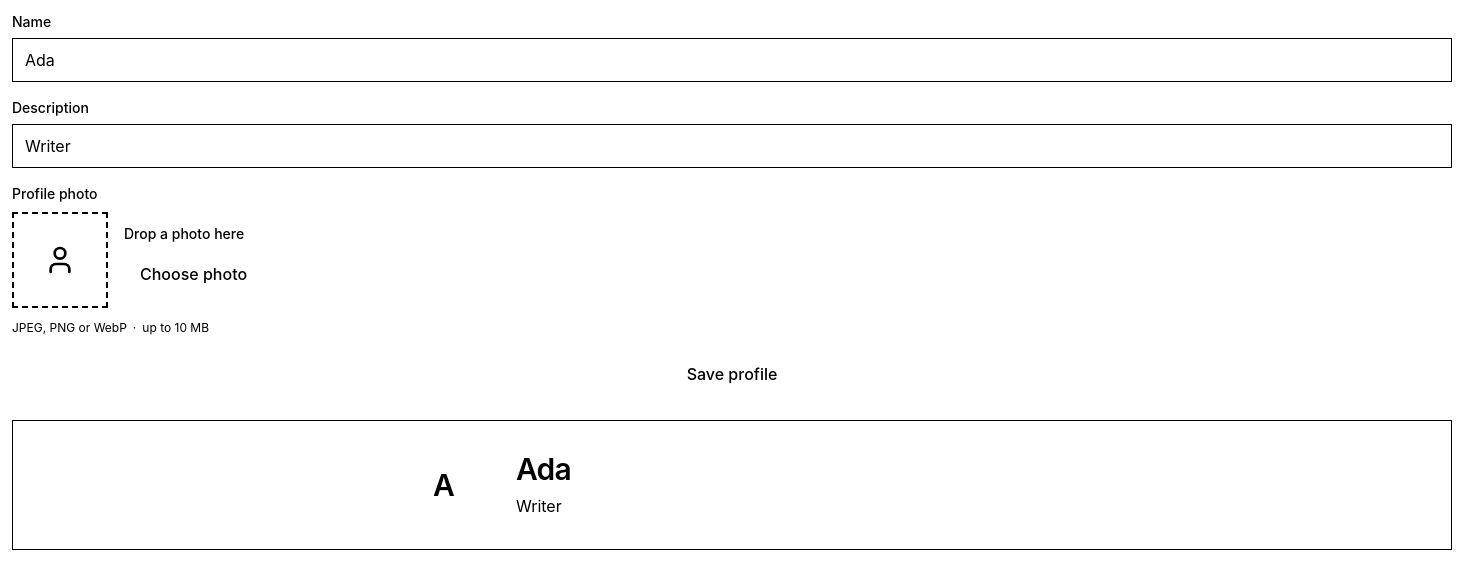
Scenario: ProfileForm › Given a pending save, should disable the fields, the photo input and the button
What coordinates should you click on to do the following:
click the button "Save profile"
I would click on:
 (732, 374)
Its box is [12, 352, 1452, 396].
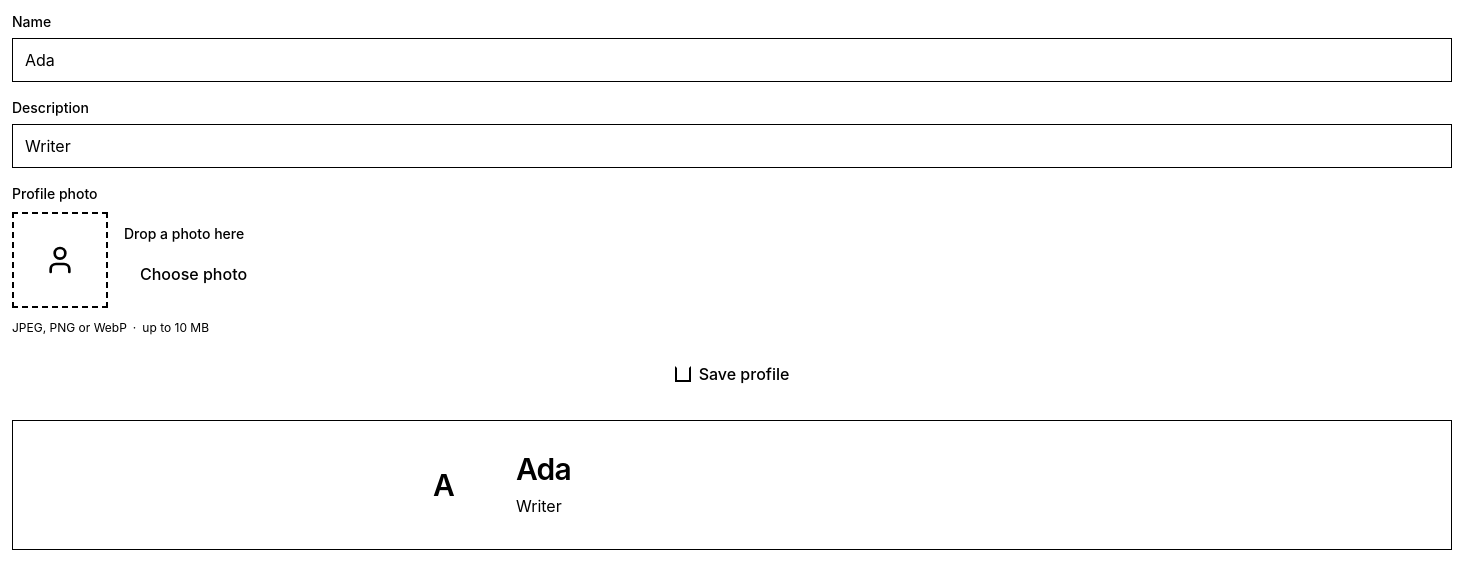
Expected: the field labelled "Name" is disabled, [12, 38, 1452, 82]
Expected: the button "Save profile" is disabled, [12, 352, 1452, 396]
